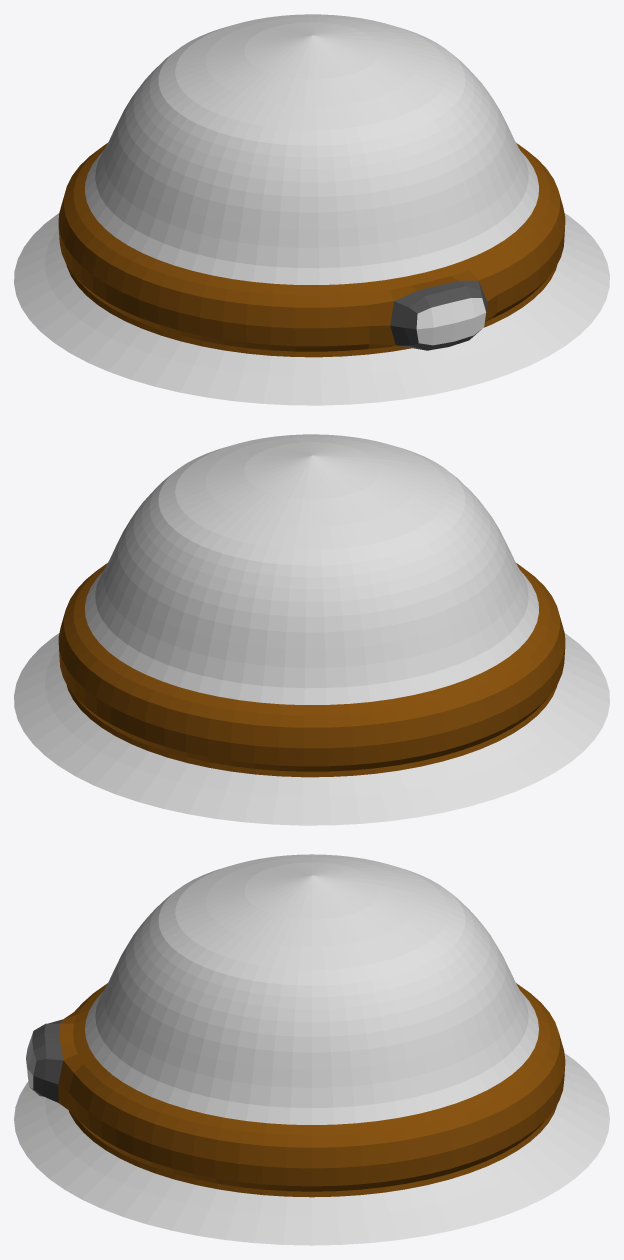
3 views of the same model, one above another, from view 1: azimuth 30°, elevation 25°; view 2: azimuth 150°, elevation 25°; view 3: azimuth 270°, elevation 25° (orthographic).
Parts seen in each view (by area): view 1: 球; view 2: 球; view 3: 球.
Part boxes in pixels (left/top/right/bottom): 球: left=14, top=14, right=609, bottom=405; 球: left=14, top=434, right=609, bottom=825; 球: left=14, top=854, right=609, bottom=1245.
Size of the model in its own units: 2813 by 1271 by 2813.
